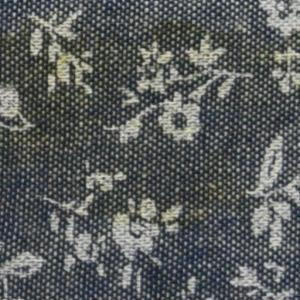Oil Stain: (1, 17, 300, 231)
